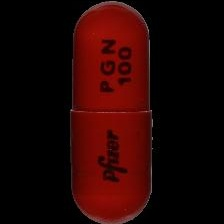52959-746: (0, 0, 224, 224)
